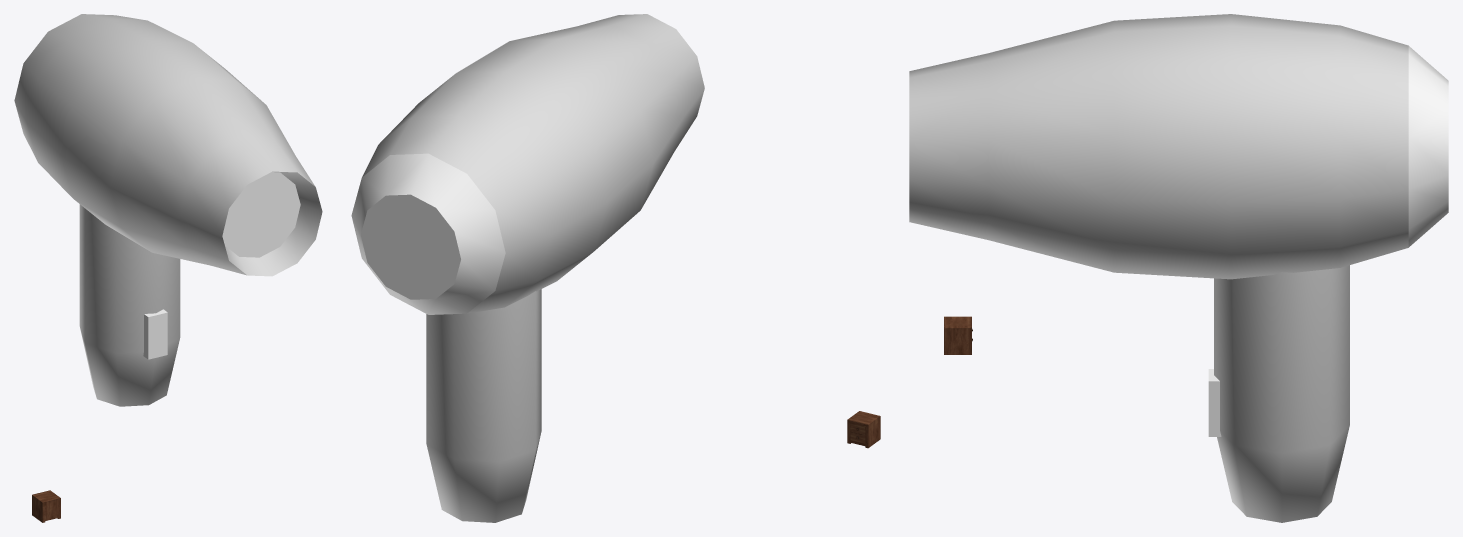
File: HairDryer.glb
The picture shows the model from 3 angles, left to right: view 1: azimuth 30°, elevation 25°; view 2: azimuth 150°, elevation 25°; view 3: azimuth 270°, elevation 25°; orthographic projection. The views are drawn at different scales.
Parts seen in each view (by area): view 1: group_3, group_1, ID68, group_2, Bollard; view 2: group_3, group_1, group_4, ID47, Bollard; view 3: group_3, group_1, group_4, Bollard, group_2.
Part boxes in pixels (x1,y1,x2,y2): group_3: (14,14,322,276); group_1: (79,204,180,406); ID68: (222,172,300,257); group_2: (143,309,167,359); Bollard: (32,490,60,522); group_3: (362,14,704,313); group_1: (426,289,541,522); group_4: (351,153,505,314); ID47: (361,194,460,299); Bollard: (847,411,880,448); group_3: (909,14,1408,279); group_1: (1214,265,1349,522); group_4: (1408,46,1448,247); Bollard: (944,316,972,354); group_2: (1208,369,1221,436).
Bounding box in the file's own units: 10.21 × 11.65 × 11.97.
Materials: 8 (1 with a texture image).
